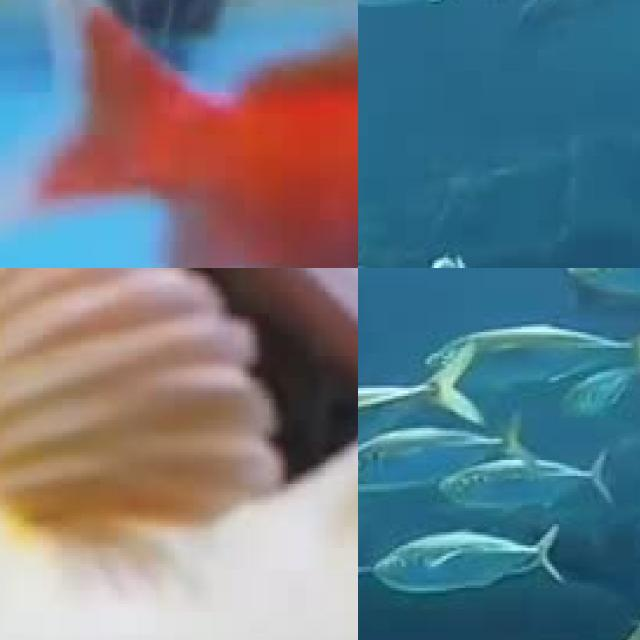fish: (0, 0, 358, 268), (0, 268, 358, 452), (358, 0, 514, 25)
